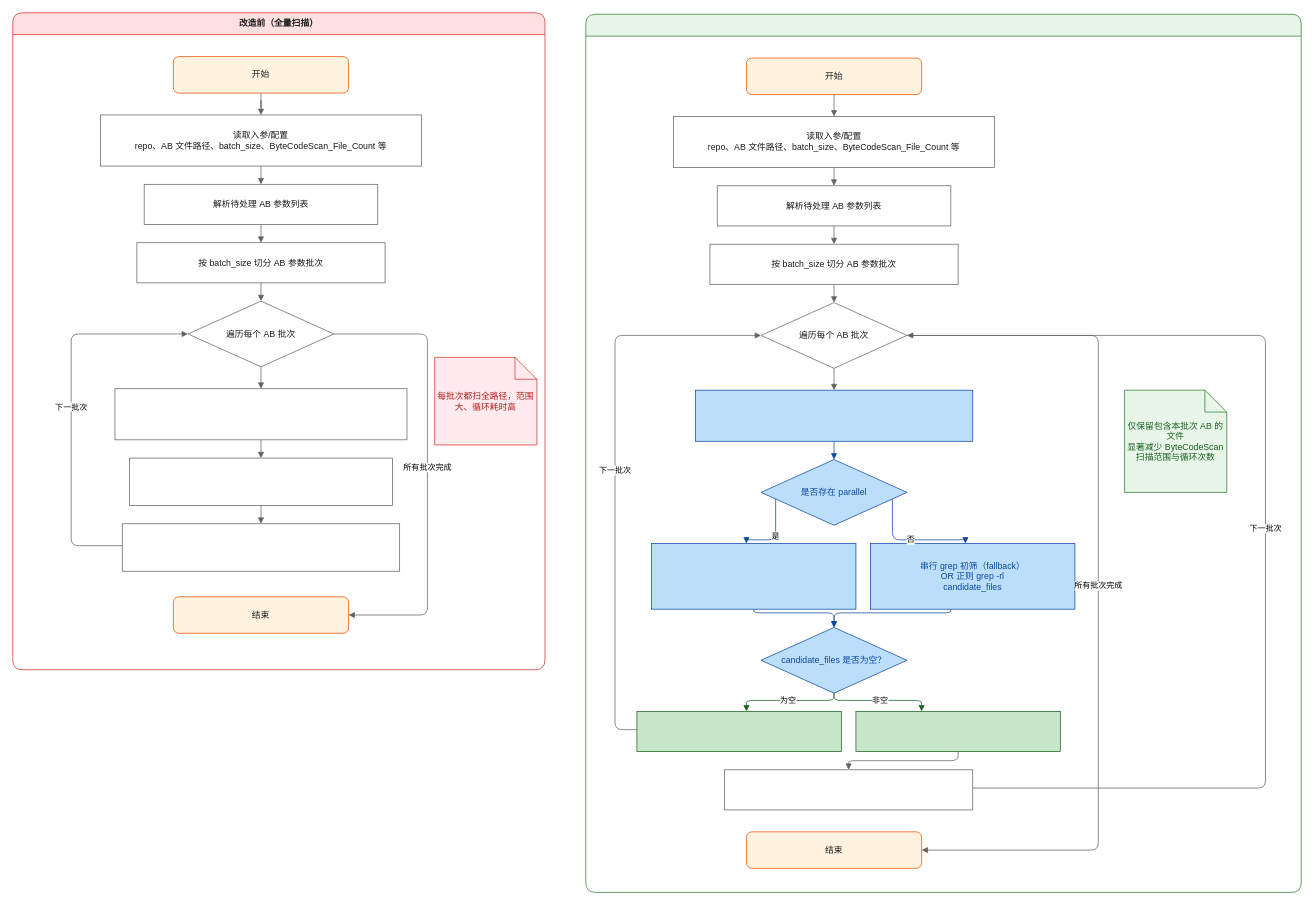
The diagram is 1314 pixels wide and 905 high, and some of its shapes have lost their labels. The shapes that lost their labels are listed below. From the top down, each one's box as (x1, y1, x2, y2) in pixels, then its label:
(114, 388, 407, 440): 全量收集待扫描文件 扫描整个代码路径（全仓 cpp/h）
(695, 389, 973, 441): 构造本批次 AB 的 grep 模式 OR 正则 或 AB 列表
(585, 14, 1301, 892): 改造后（初筛 + 精准扫描）
(129, 457, 392, 506): 对全量文件执行 ByteCodeScan 使用当前批次 AB 参数
(122, 523, 400, 571): 输出修改结果 → 进入后续处理 （clang-tidy/提交 等）
(651, 543, 856, 609): 并行 grep 初筛（highlight） grep -rl 命中 → 汇总去重 candidate_files
(636, 711, 841, 752): 跳过本批次 ByteCodeScan
(855, 711, 1060, 752): 仅对 candidate_files 执行 ByteCodeScan
(724, 769, 973, 810): 输出修改结果 → 进入后续处理
